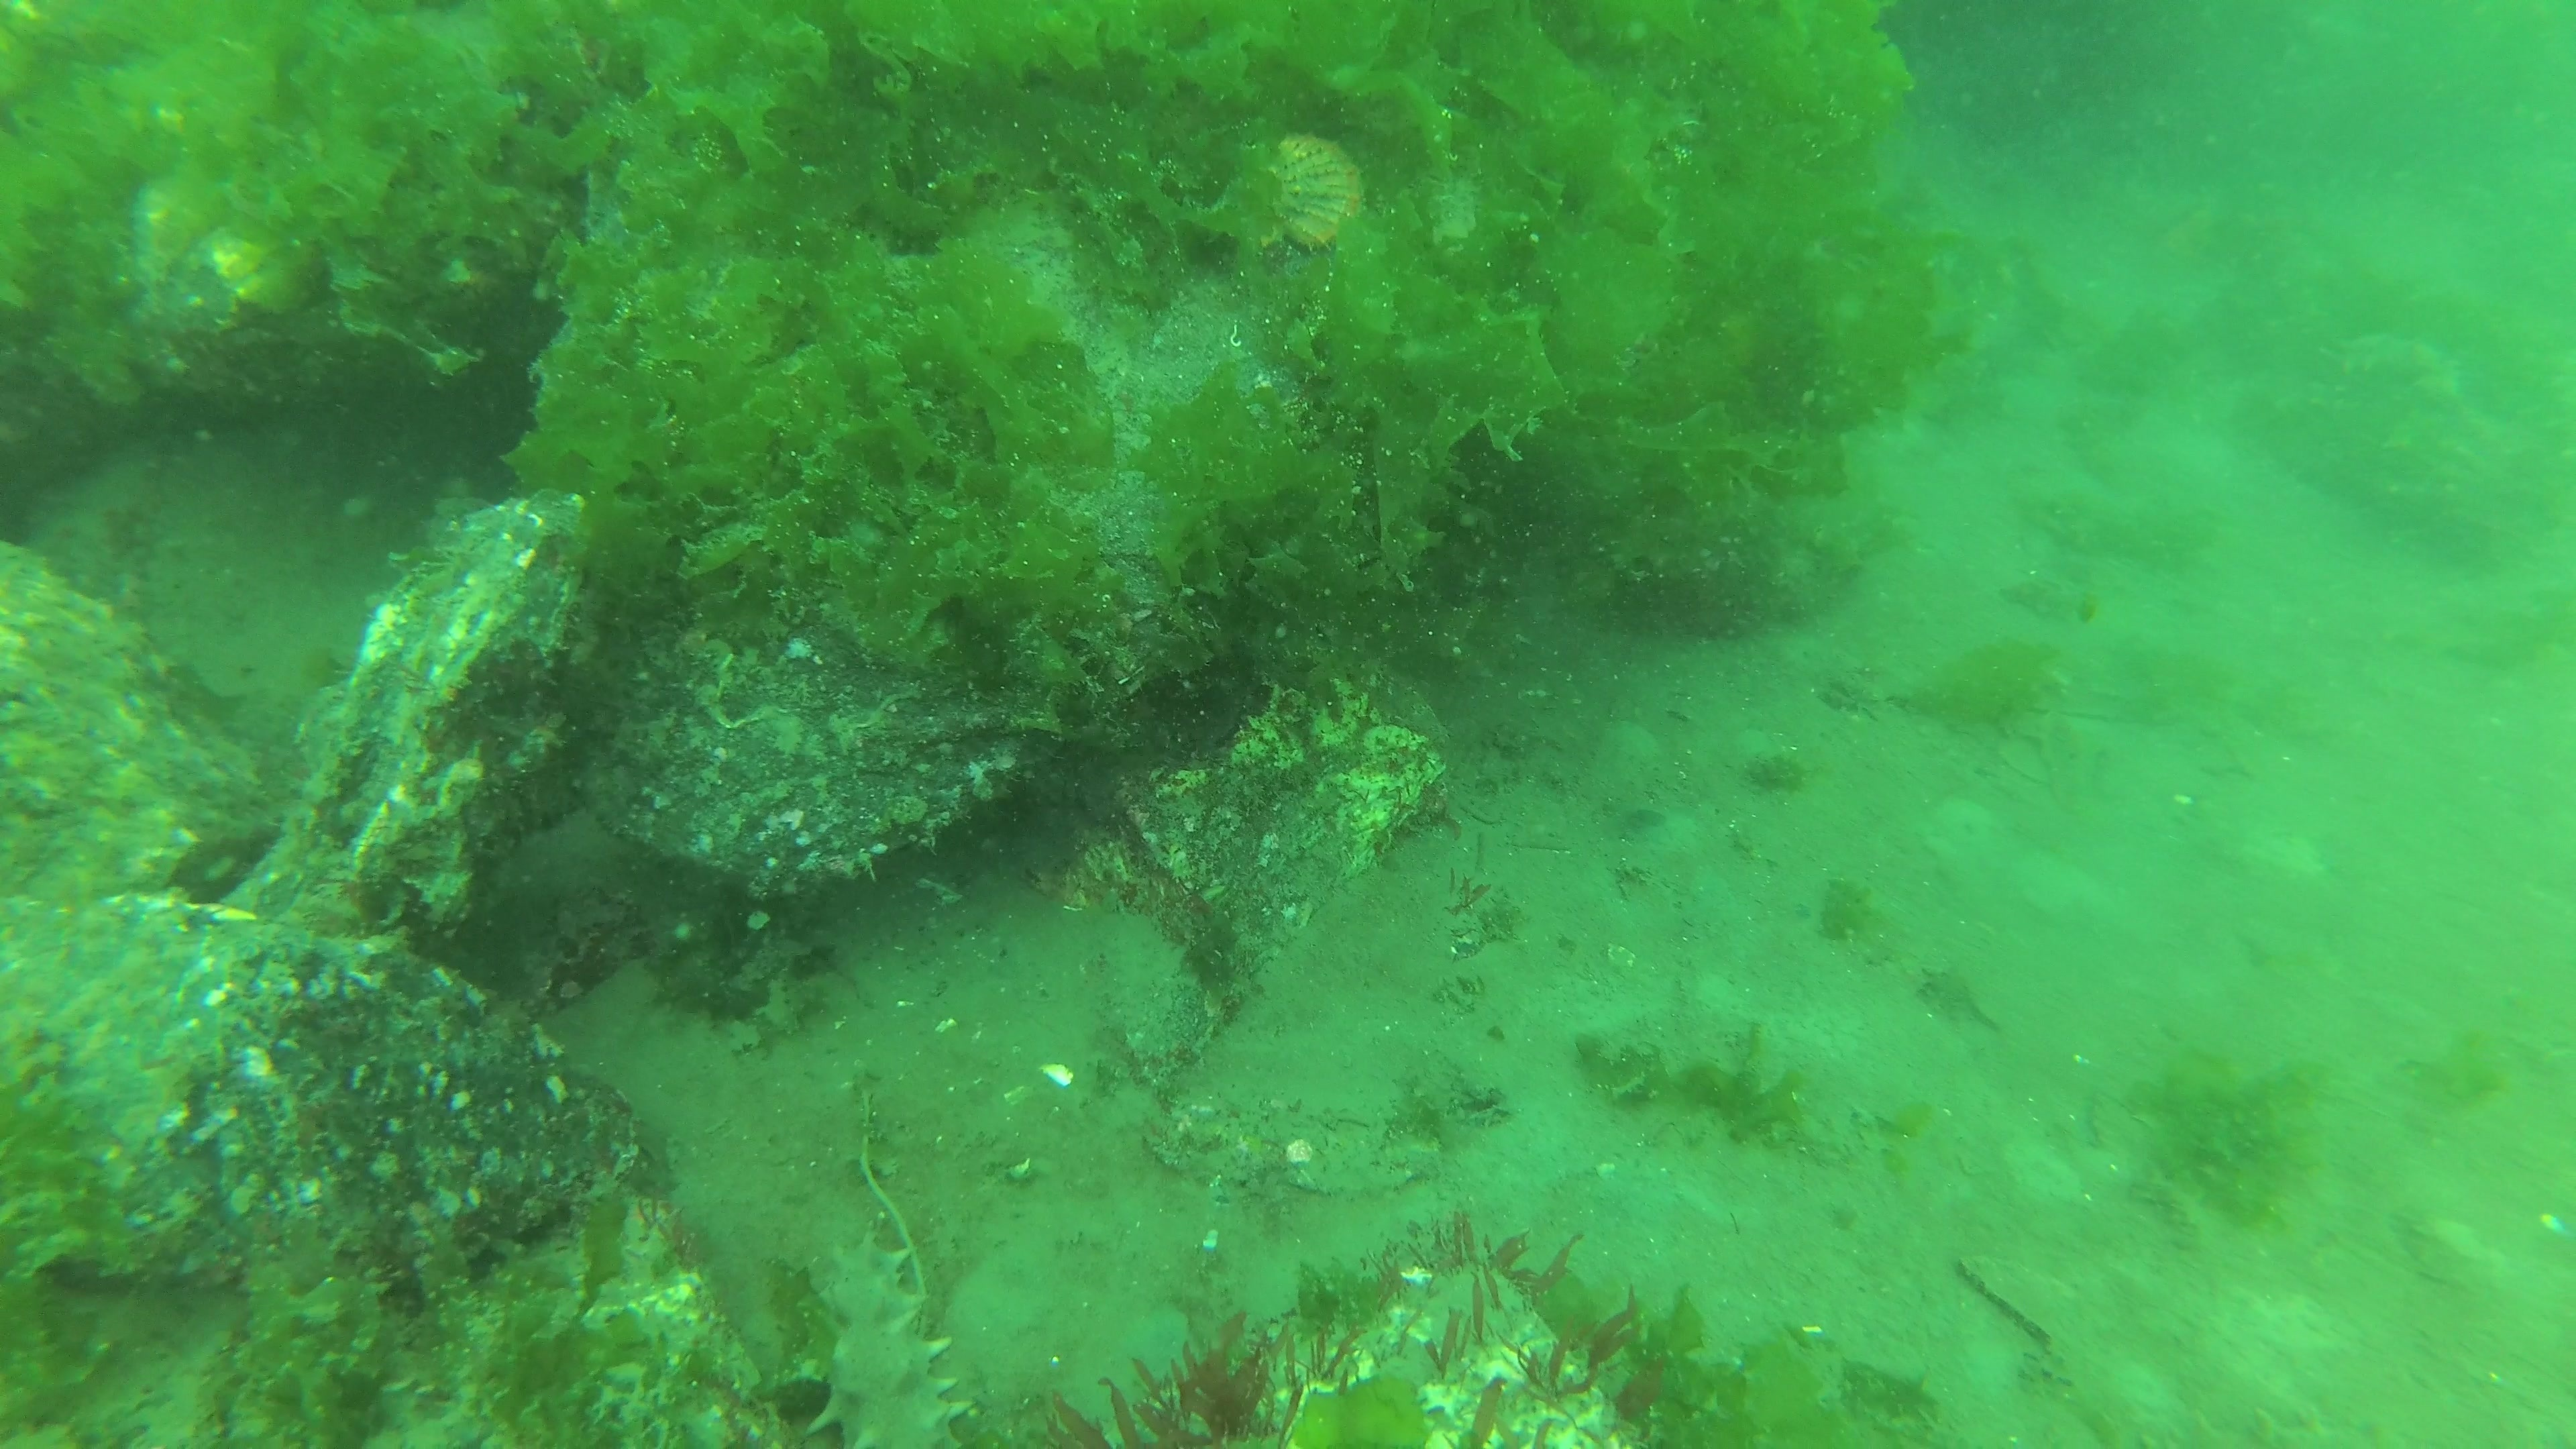holothurian: (809, 1221, 977, 1449), (2332, 333, 2459, 405), (2134, 1407, 2351, 1449)
scallop: (1269, 138, 1366, 249)
